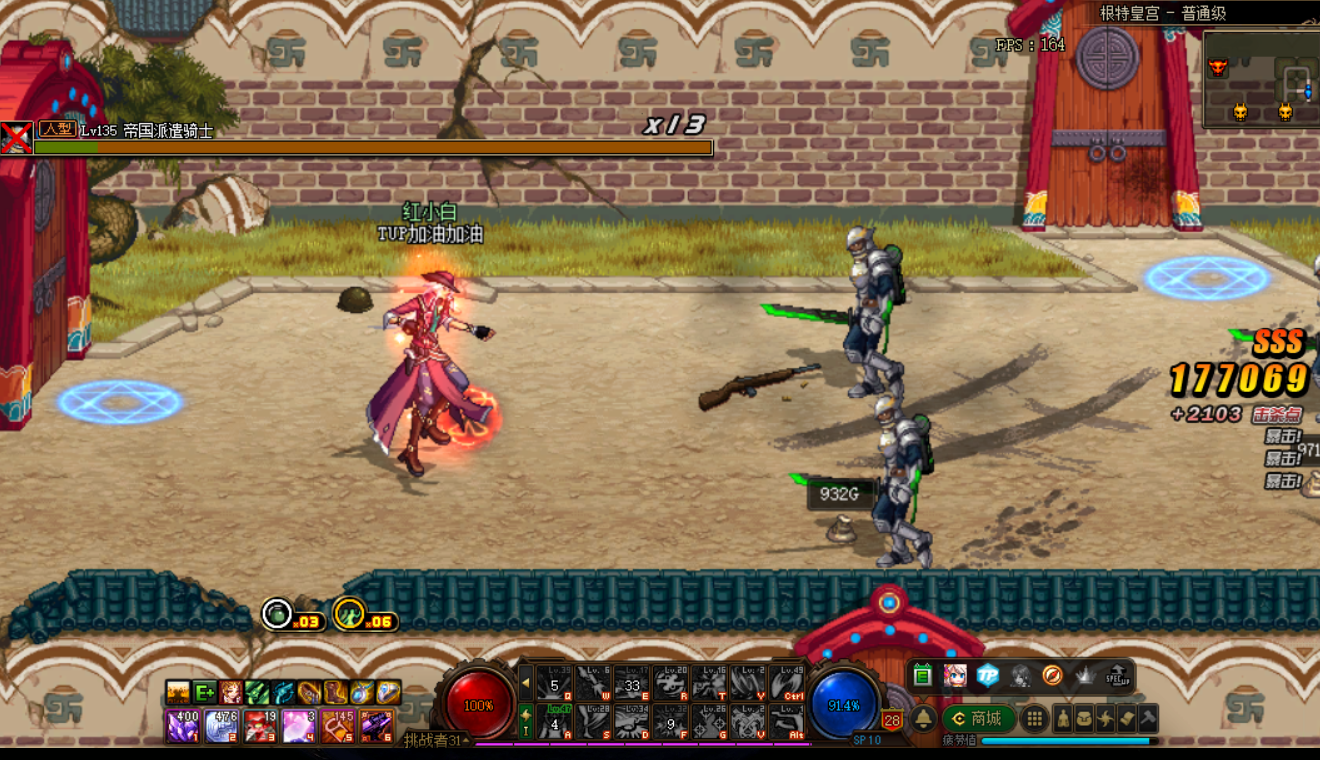monster: (764, 213, 912, 404), (798, 395, 943, 567)
warrior: (365, 260, 498, 489)
